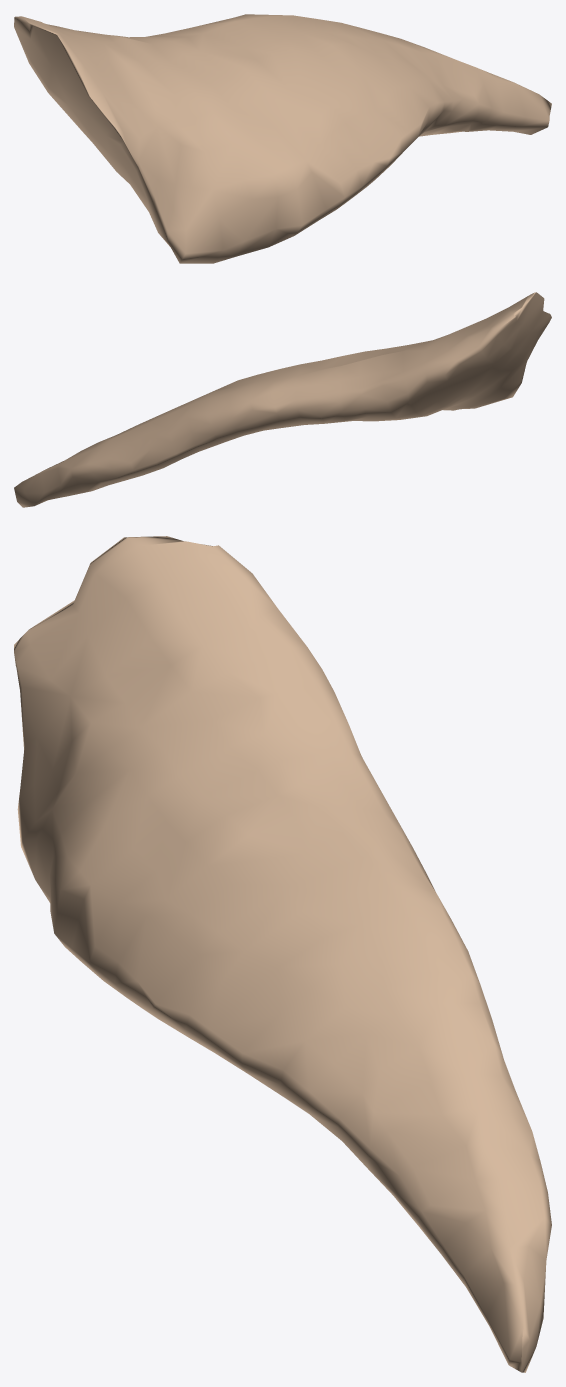
3 renders of one model, top to bottom at view 1: azimuth 30°, elevation 25°; view 2: azimuth 150°, elevation 25°; view 3: azimuth 270°, elevation 25°, orthographic. The views are drawn at different scales.
Visible parts, largest first — view 1: 左侧梨状肌筋膜; view 2: 左侧梨状肌筋膜; view 3: 左侧梨状肌筋膜.
Part boxes in pixels (x1,y1,x2,y2): 左侧梨状肌筋膜: [14, 14, 551, 263]; 左侧梨状肌筋膜: [14, 292, 551, 507]; 左侧梨状肌筋膜: [14, 536, 551, 1372].
Size of the model in its own units: 0.1632 by 0.0881 by 0.0943.
